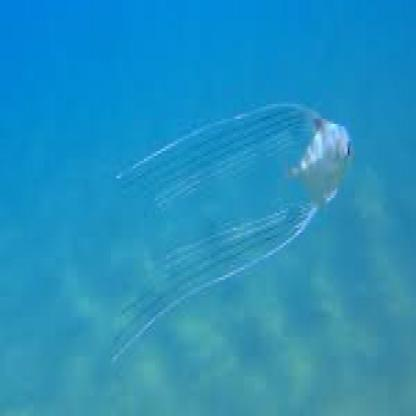Carangidae -Jacks-: (107, 93, 355, 370)
